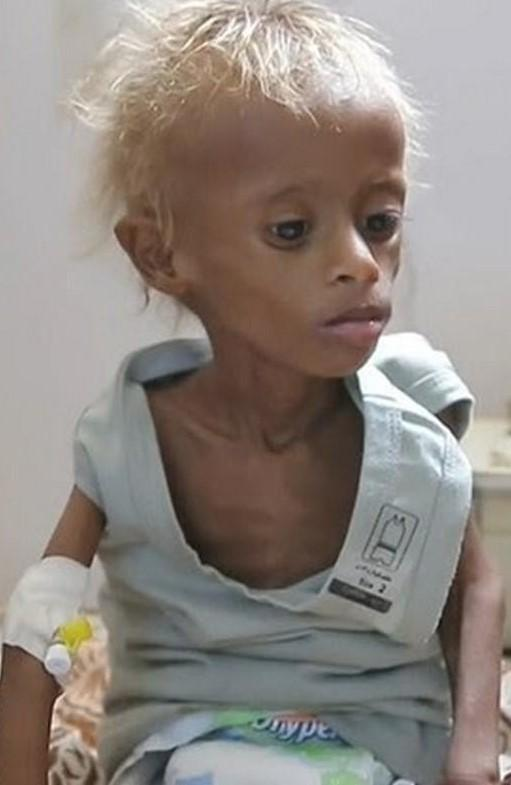Stunting: (90, 20, 494, 380)
